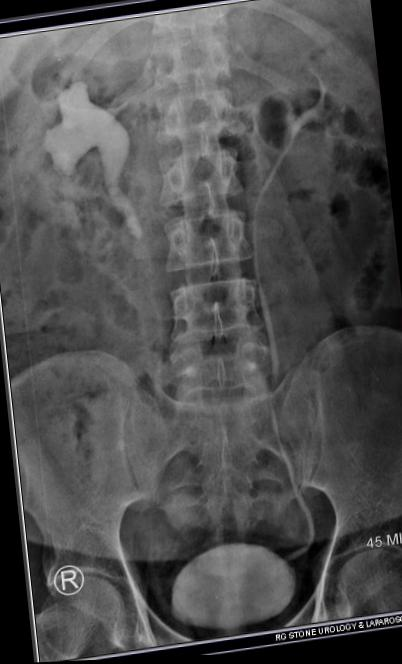bladder: (152, 532, 303, 646)
vertebrae: (148, 76, 246, 152)
